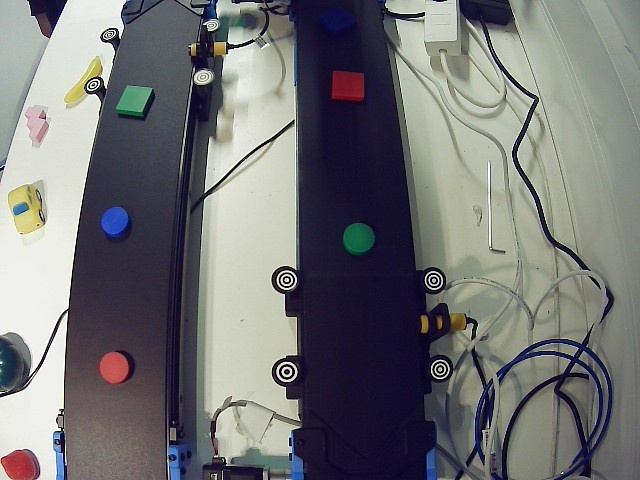Blue_Circle: (100, 206, 132, 241)
Blue_Square: (318, 2, 358, 33)
Green_Circle: (342, 222, 377, 256)
Green_Square: (114, 81, 159, 122)
Red_Circle: (96, 351, 136, 386)
Red_Square: (329, 68, 368, 100)
